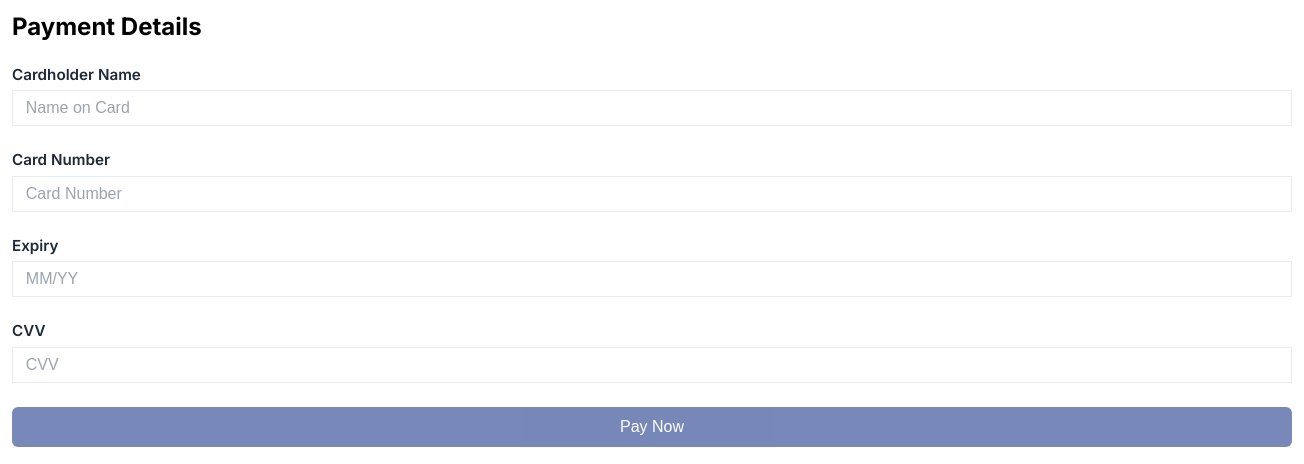
PaymentForm › disables Pay Now button until all fields are valid
expect the button "Pay Now" is disabled: met, box [12,407,1292,447]
Type "Test name" into the field labelled "Cardholder Name".
click(652, 108); type("Test name")  # box [12,90,1292,126]
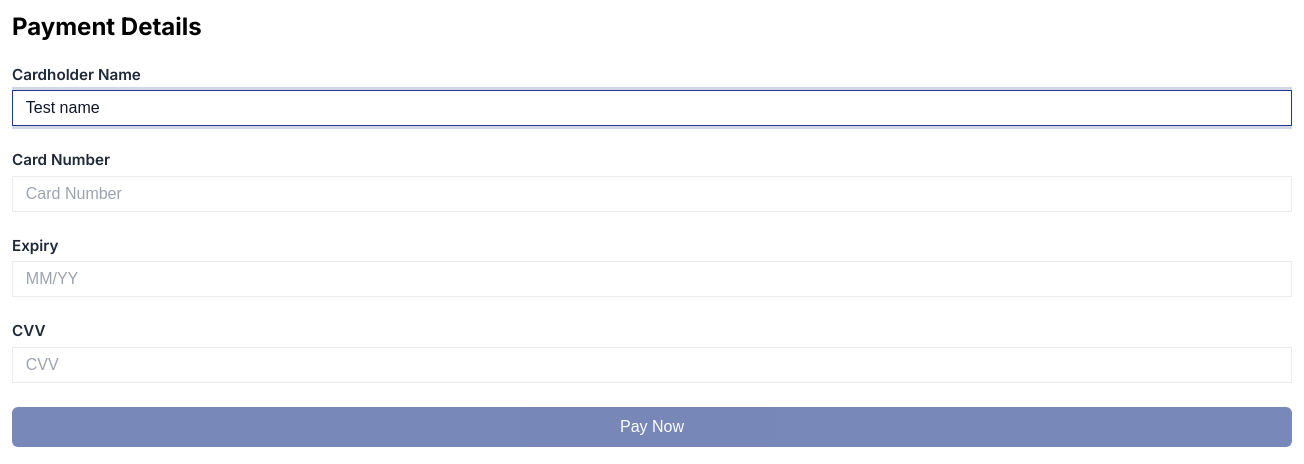
Type "1234 5678 1234 5678" into the field labelled "Card Number".
click(652, 194); type("1234 5678 1234 5678")  # box [12,176,1292,212]
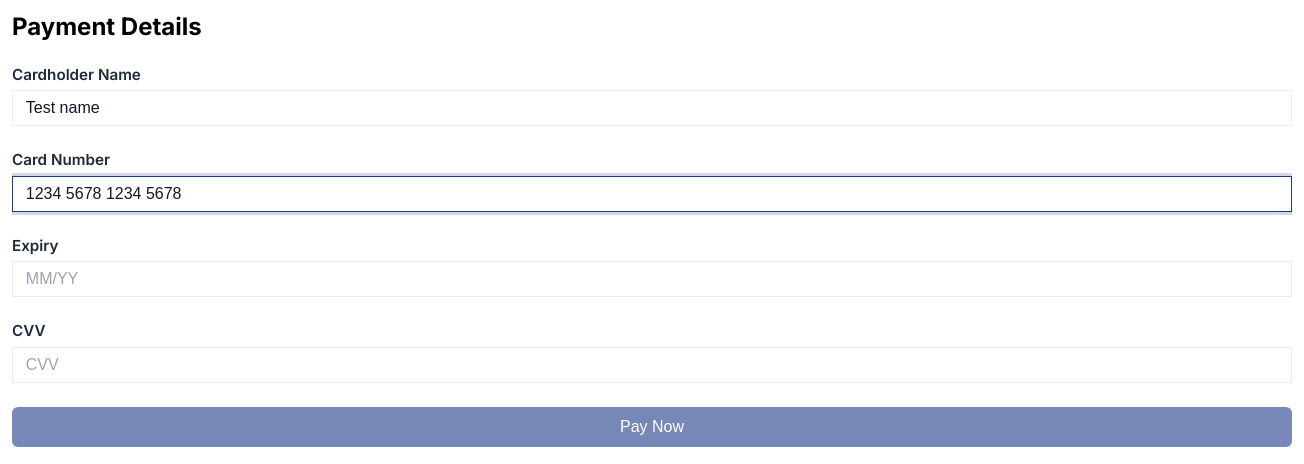
Type "12/45" into the field labelled "Expiry".
click(652, 279); type("12/45")  # box [12,261,1292,297]
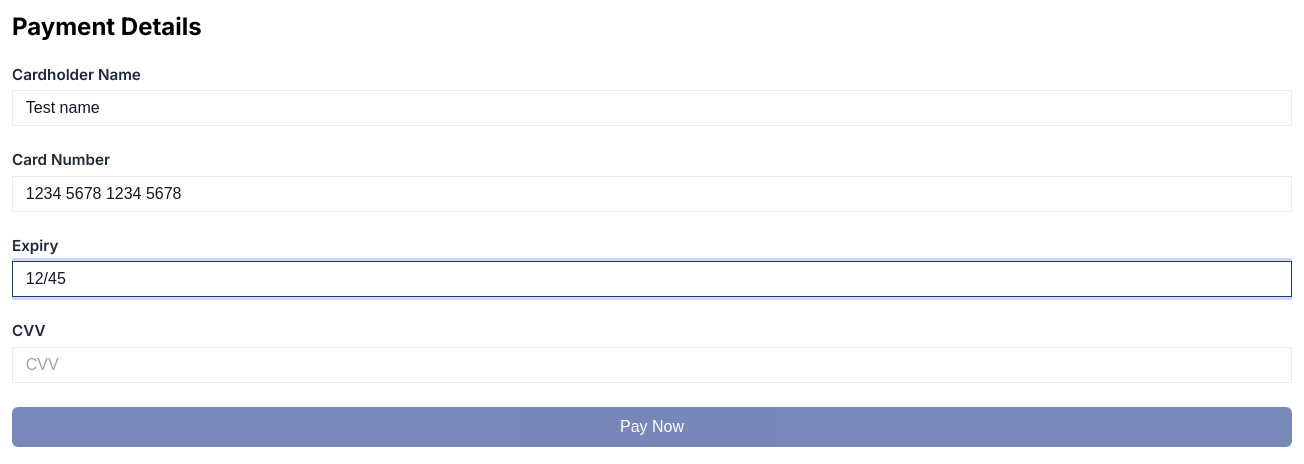
Type "123" into the password field labelled "CVV".
click(652, 365); type("123")  # box [12,347,1292,383]
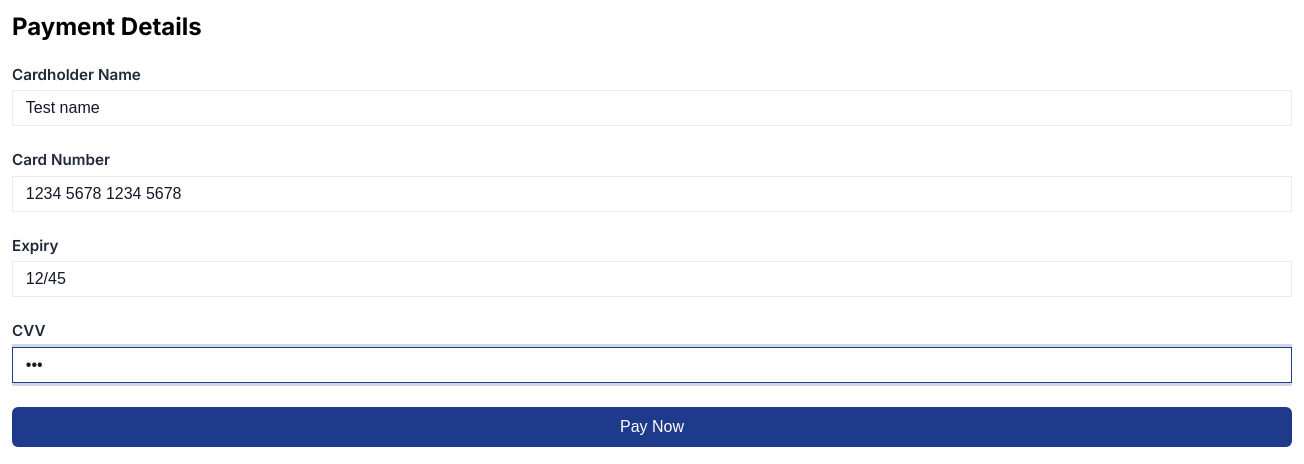
expect the button "Pay Now" is enabled: met, box [12,407,1292,447]
